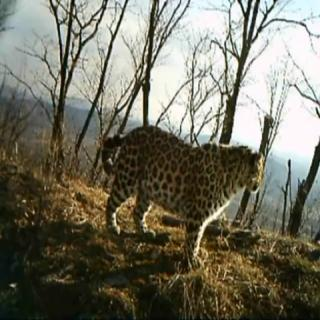Leopard: (98, 96, 282, 280)
